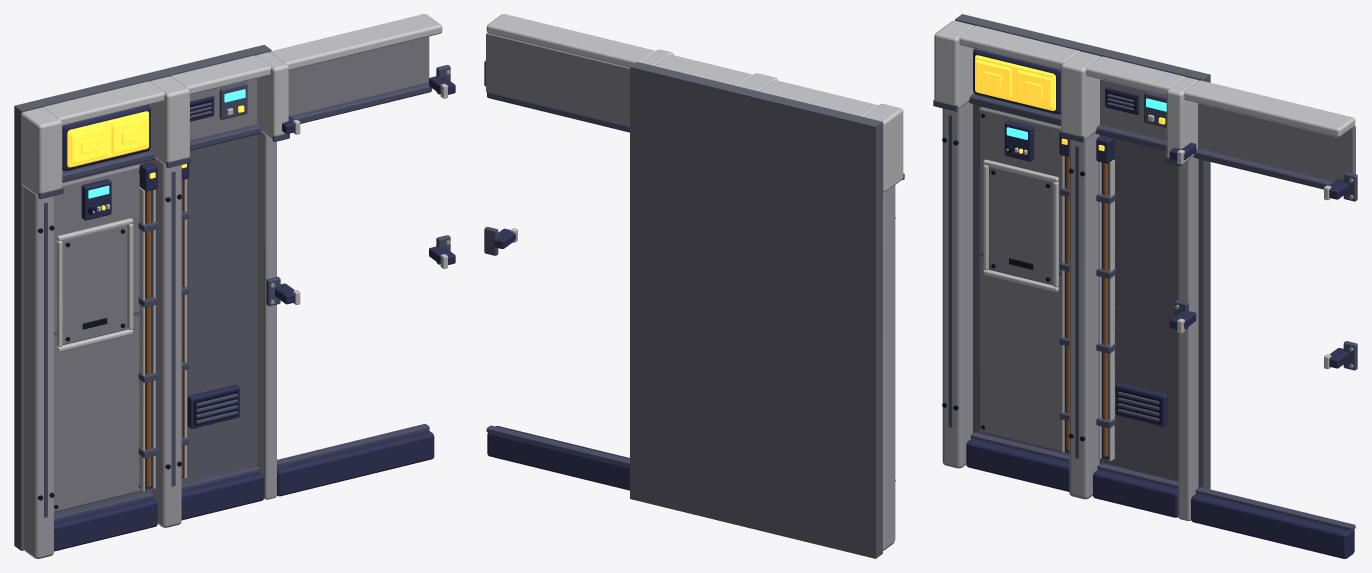
Rendered from int.wallbay.far.00.w1.glb.
The picture shows the model from 3 angles, left to right: view 1: azimuth 30°, elevation 25°; view 2: azimuth 150°, elevation 25°; view 3: azimuth 330°, elevation 25°; orthographic projection.
Parts seen in each view (by area): view 1: int.wallbay.far.00.w1; view 2: int.wallbay.far.00.w1; view 3: int.wallbay.far.00.w1.
Part boxes in pixels (box(x1,y1,x2,y2)): int.wallbay.far.00.w1: box(14, 14, 455, 558); int.wallbay.far.00.w1: box(484, 14, 904, 558); int.wallbay.far.00.w1: box(933, 14, 1357, 558).
Size of the model in its own units: 1.67 by 1.68 by 0.226.
